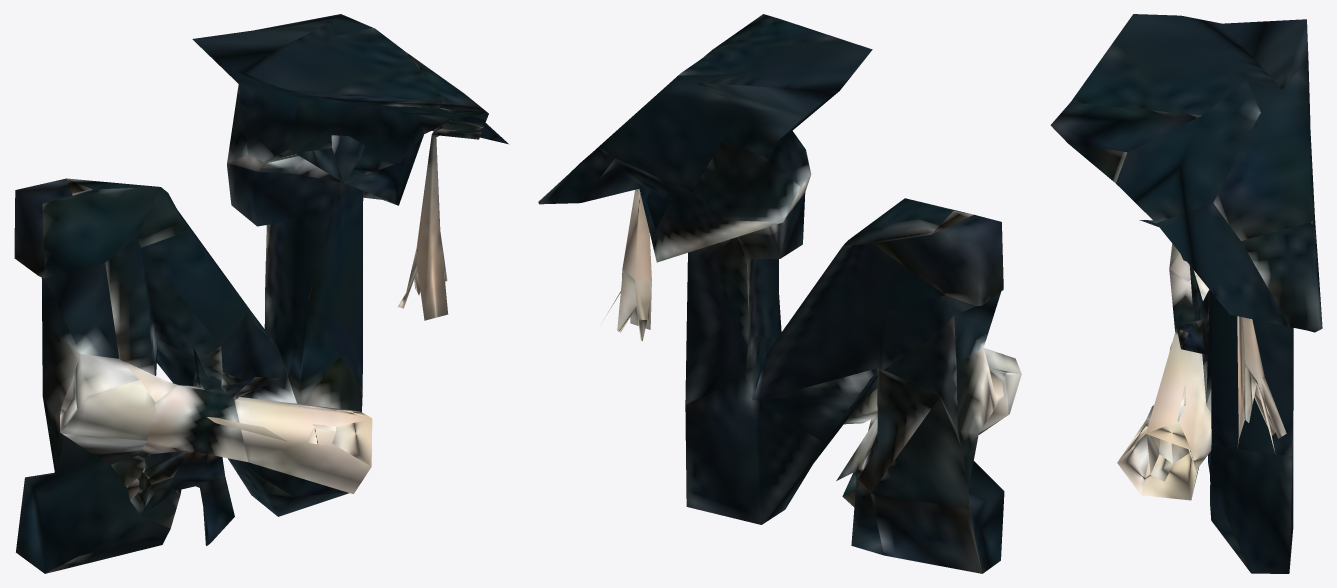
3 renders of one model, left to right at view 1: azimuth 30°, elevation 25°; view 2: azimuth 150°, elevation 25°; view 3: azimuth 270°, elevation 25°, orthographic. The views are drawn at different scales.
Visible parts, largest first — view 1: Graduation-N; view 2: Graduation-N; view 3: Graduation-N.
Boxes of the visible parts, x1,y1,x2,y2 form: Graduation-N: (14,14,508,573); Graduation-N: (538,14,1021,573); Graduation-N: (1050,14,1322,573).
Bounding box in the file's own units: 0.2741 × 0.2649 × 0.1318.
1 material, 1 textured.
